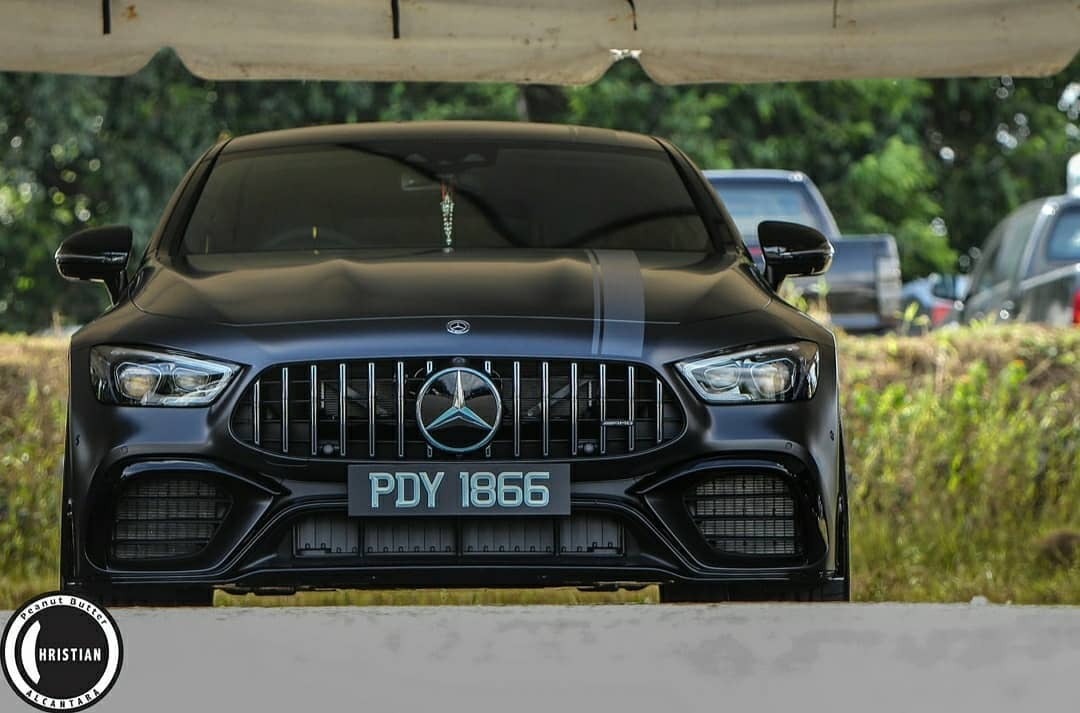License-Plate: (348, 465, 569, 515)
